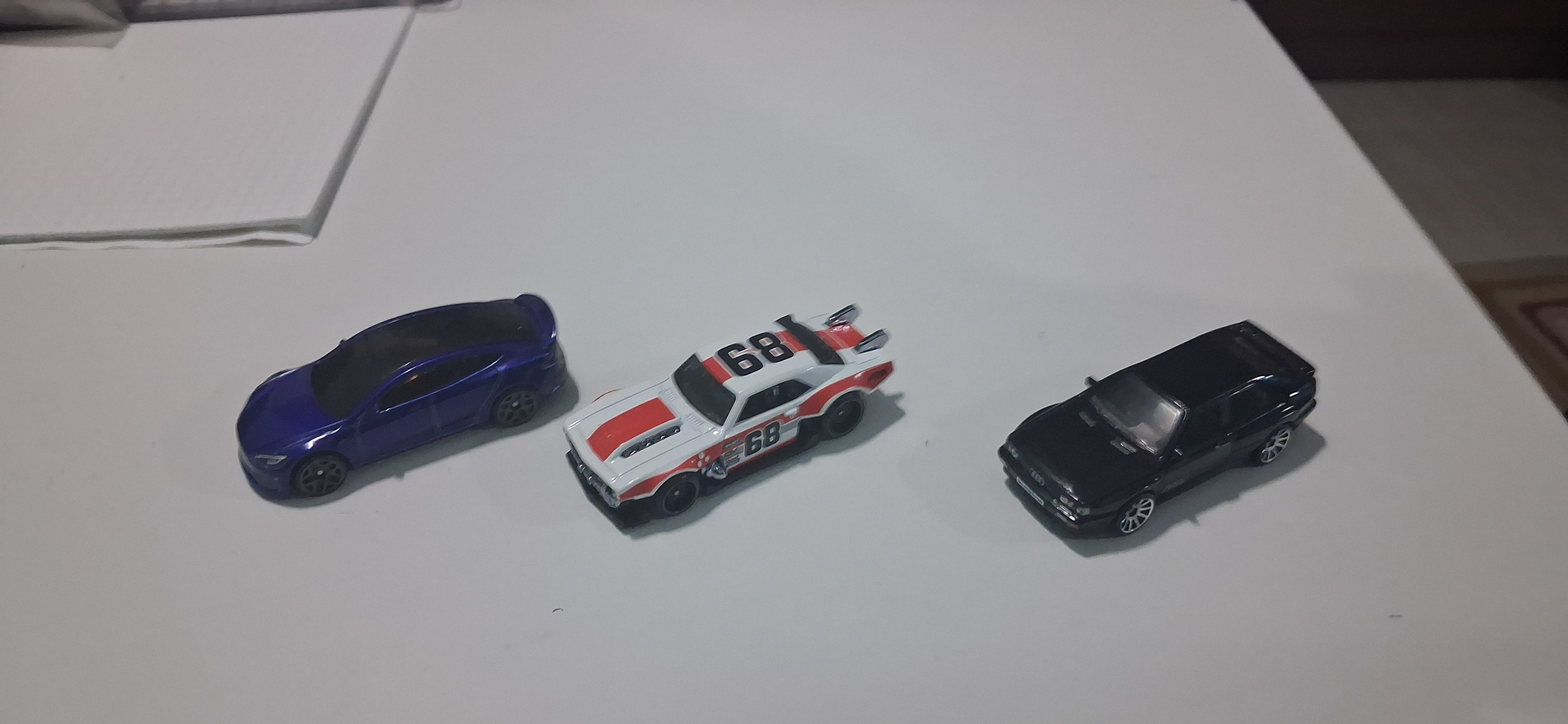Audi_Quattro: (986, 281, 1328, 573)
Camaro: (546, 241, 916, 574)
Tesla_Model_S_Plaid: (207, 247, 573, 539)
